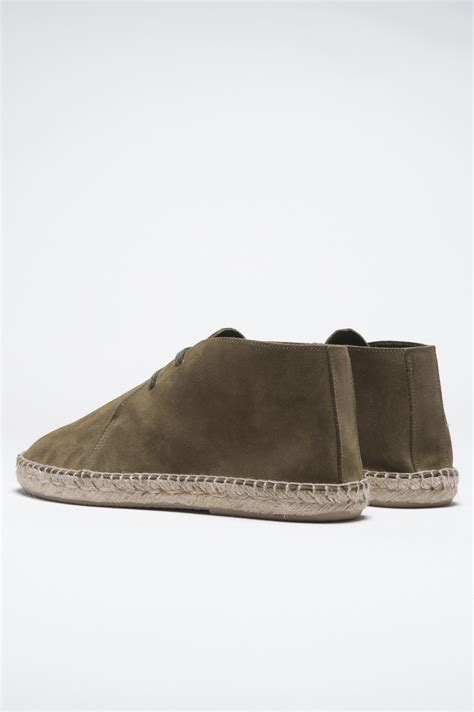gamuza: (17, 326, 457, 484)
